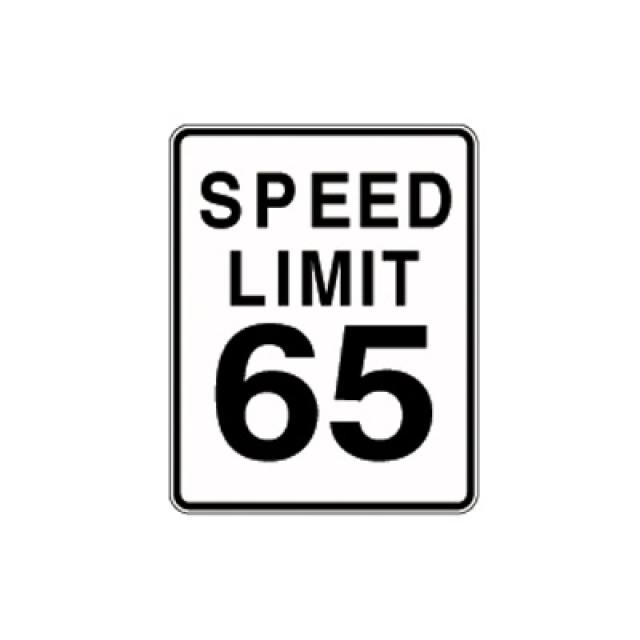speedLimit65: (168, 125, 482, 522)
